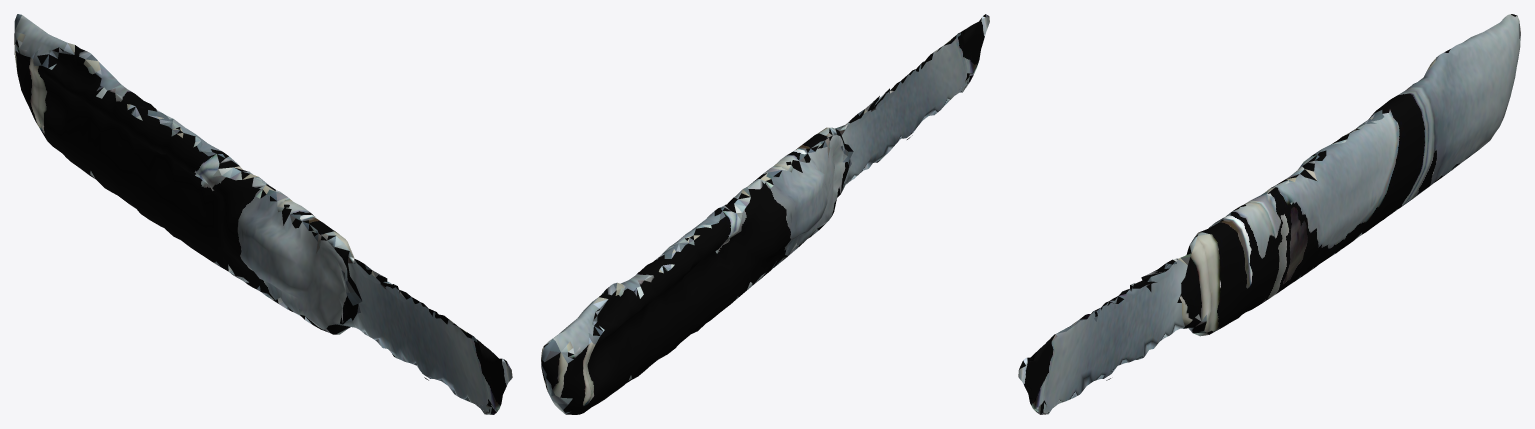
File: scan_align.obj
The picture shows the model from 3 angles, left to right: view 1: azimuth 30°, elevation 25°; view 2: azimuth 150°, elevation 25°; view 3: azimuth 330°, elevation 25°; orthographic projection. The views are drawn at different scales.
Size of the model in its own units: 0.0127 by 0.0298 by 0.2241.
